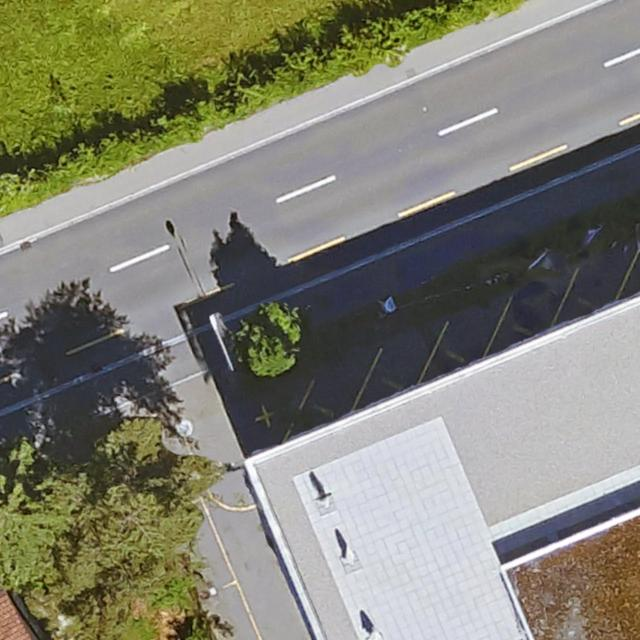tree: (0, 419, 203, 640), (241, 296, 306, 378)
